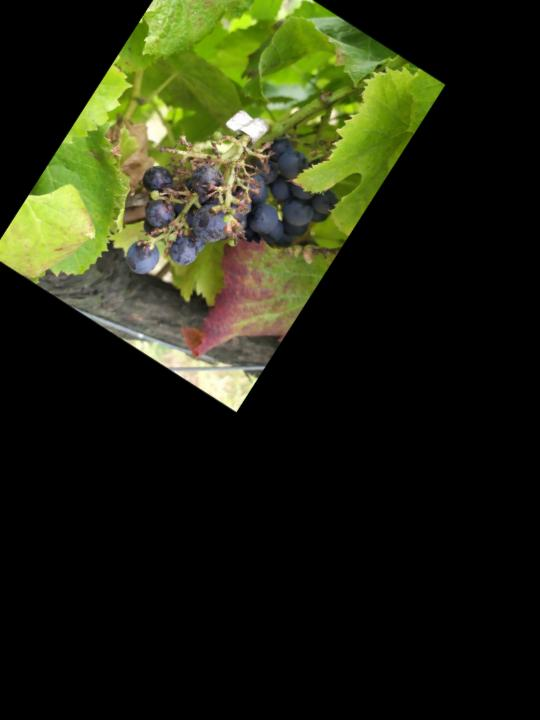grape: (92, 92, 297, 315)
